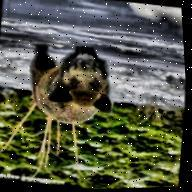boar: (22, 38, 122, 132)
